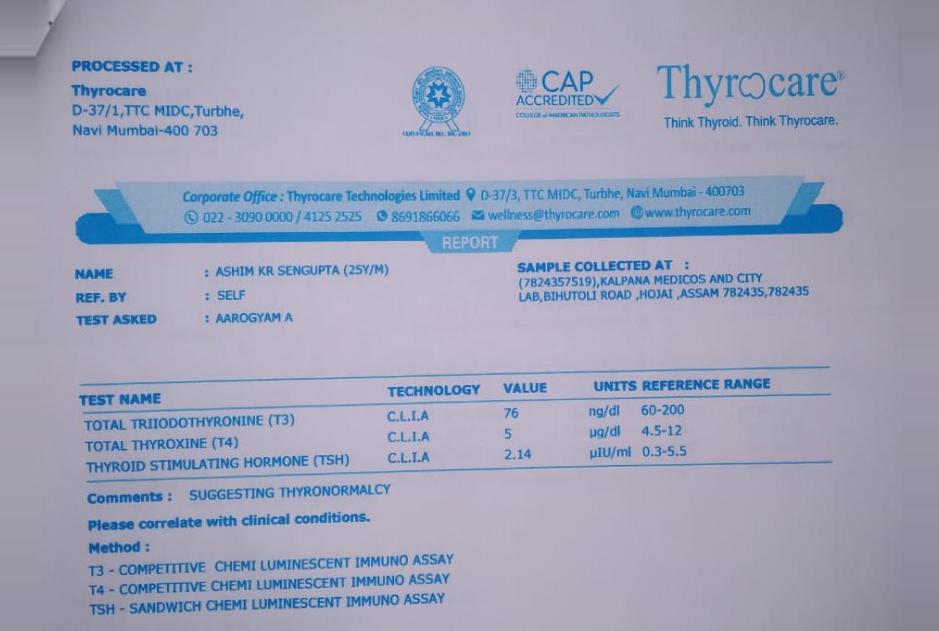Reference Range: (635, 397, 694, 465)
Test Name: (79, 407, 356, 479)
Units: (583, 398, 636, 467)
Value: (496, 400, 541, 467)
